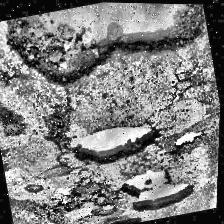pothole: (0, 0, 214, 100), (70, 115, 168, 171), (118, 159, 200, 217), (172, 127, 208, 149), (104, 214, 144, 224)
